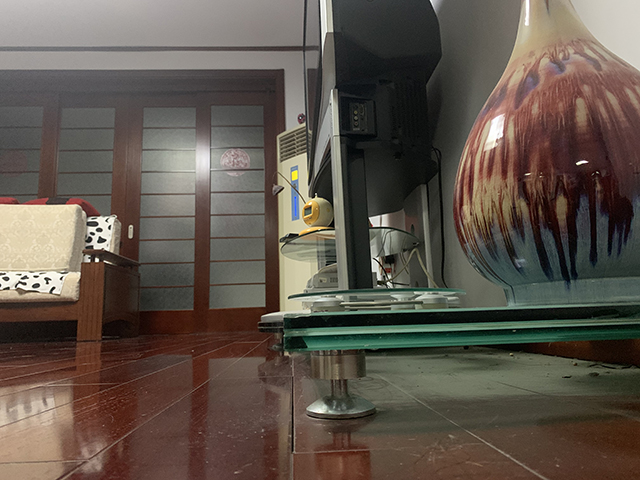cabinet: (256, 87, 640, 422)
sofa: (1, 195, 142, 342)
